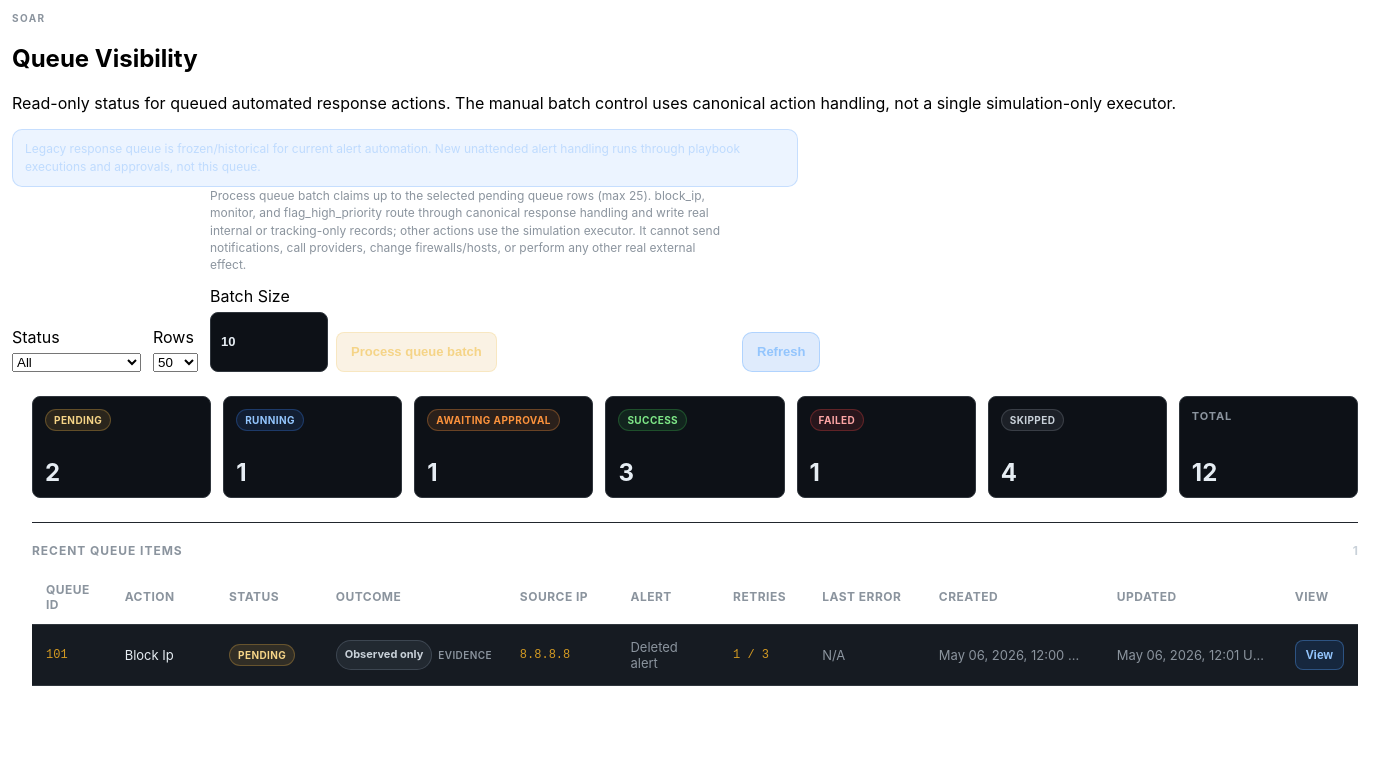
Test: SoarQueuePanel › shows filtered empty state while keeping counts visible
Check: the text "Recent Queue Items" is shown, box [32,543,183,558]
Select "Failed" in the dropdown labelled "Status": (76, 362) [12,353,141,372]
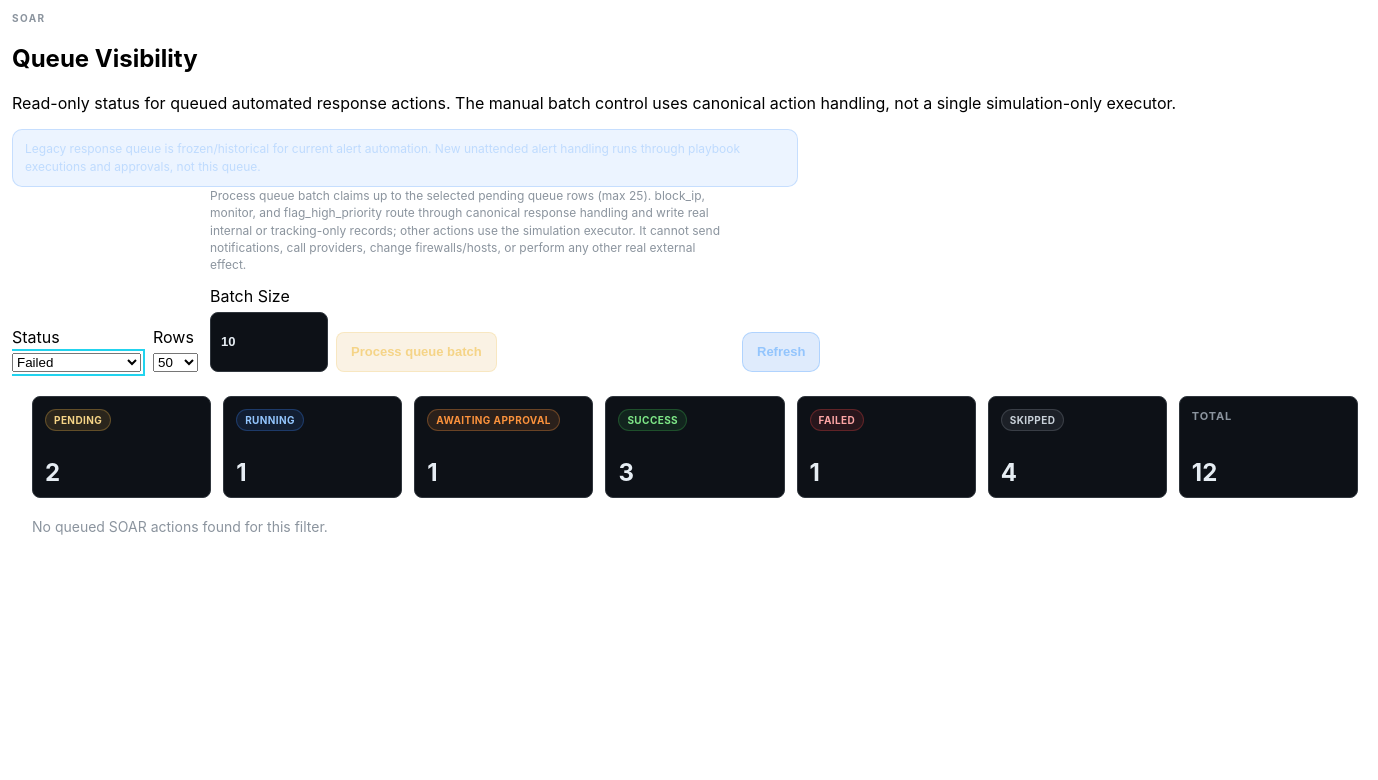
Check: the text "Total" is shown, box [1192,409,1232,423]
Check: the text "No queued SOAR actions found for this filter." is shown, box [32,518,328,535]
